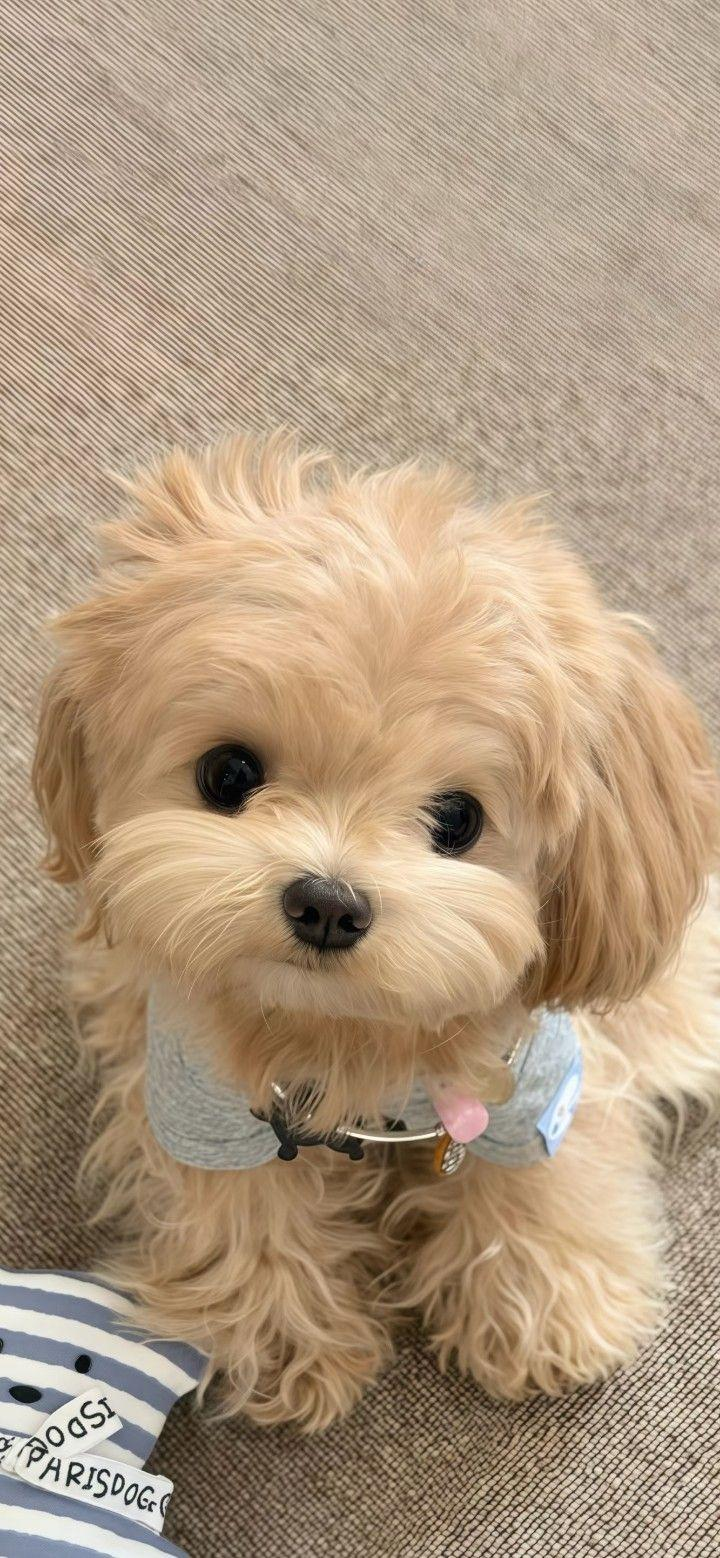puppy-dog: (28, 432, 720, 1432)
